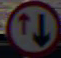Two way: (13, 7, 54, 49)
